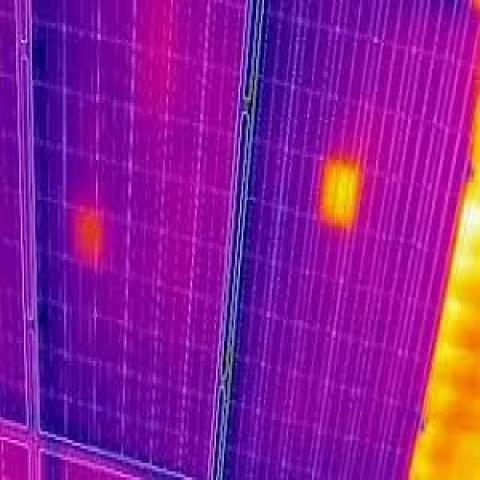fault: (316, 152, 362, 237), (66, 200, 116, 277)
